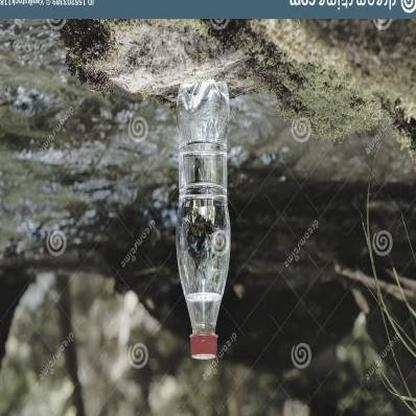plastic bottle: (174, 80, 231, 360)
